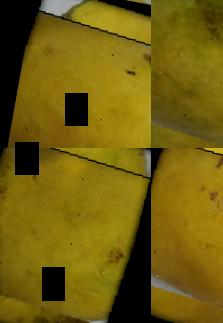PartiallyRipe: (151, 0, 223, 148)
Ripe: (0, 148, 151, 323), (0, 0, 151, 148), (151, 148, 223, 323)
